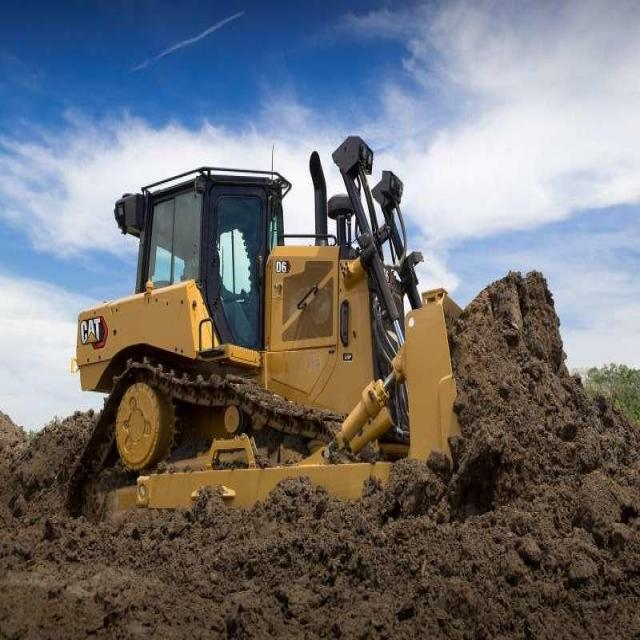Bulldozer: (58, 128, 475, 539)
